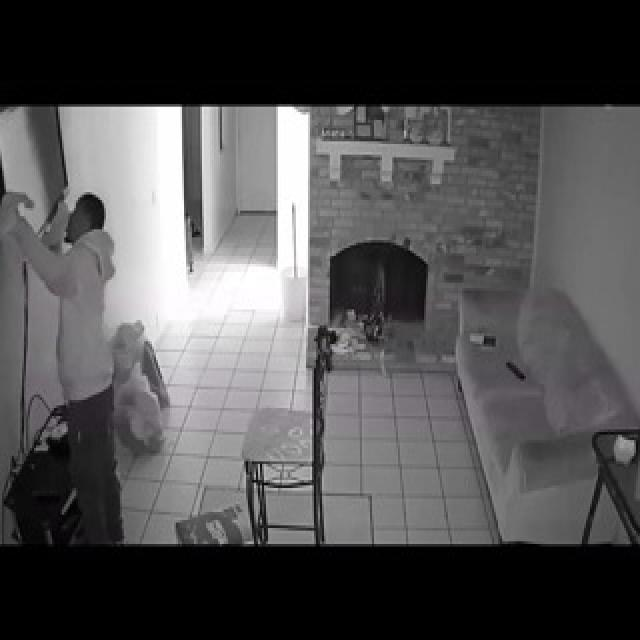thief: (56, 186, 121, 502)
